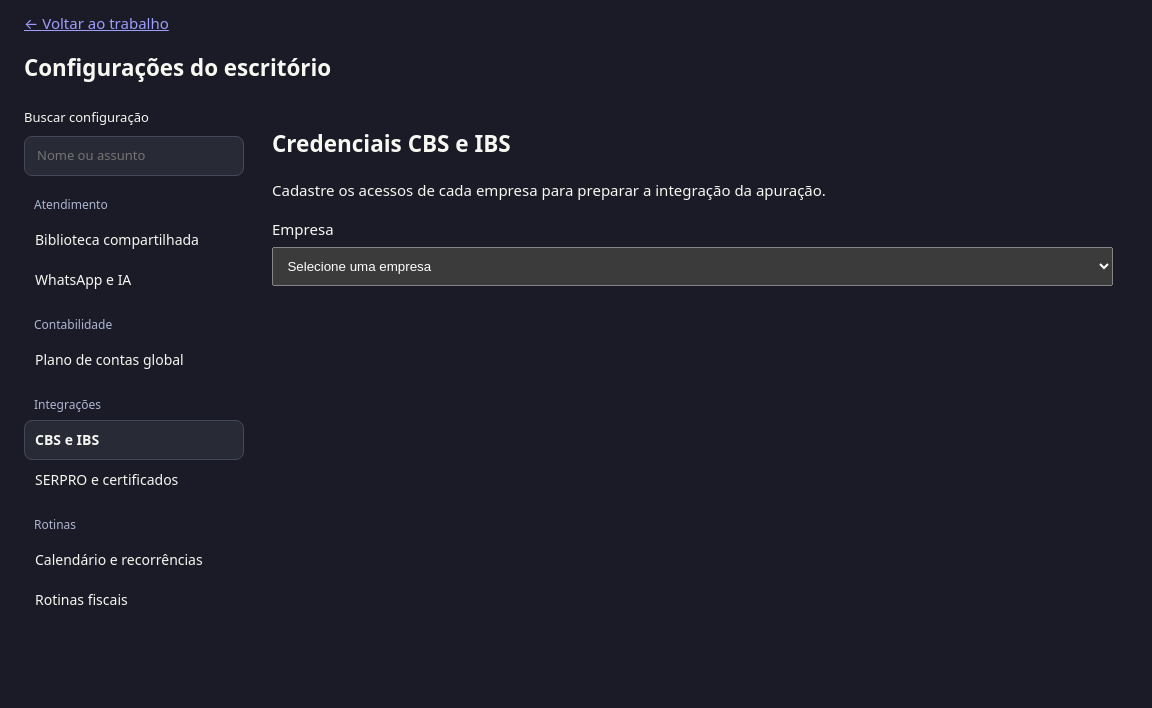
Test case: erro de listagem bloqueia edição e permite tentar novamente
Select "Prisma · 111" in the dropdown labelled "Empresa" at coordinates (692, 266), box [272,247,1113,286]
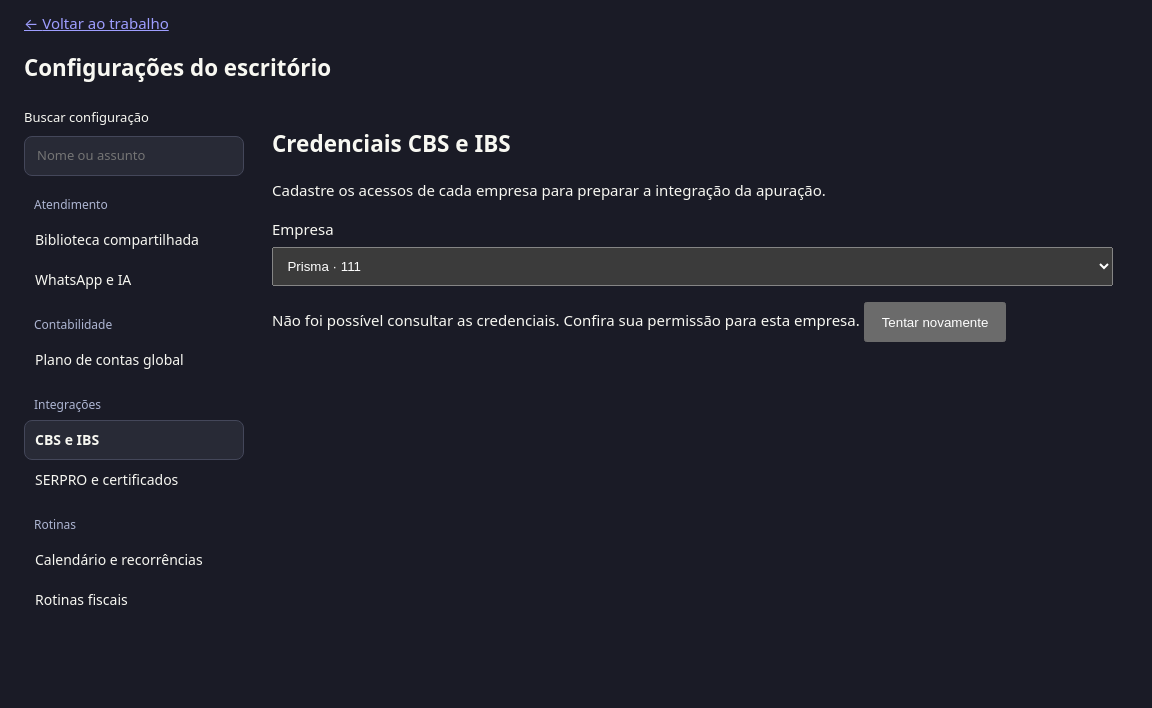
Expected: the field labelled "Client Secret" is not shown
Result: the message shows "Não foi possível consultar" at [272,311,864,331]
Click the button "Tentar novamente" at coordinates (935, 322), box [864,302,1006,342]
(page scrolled)
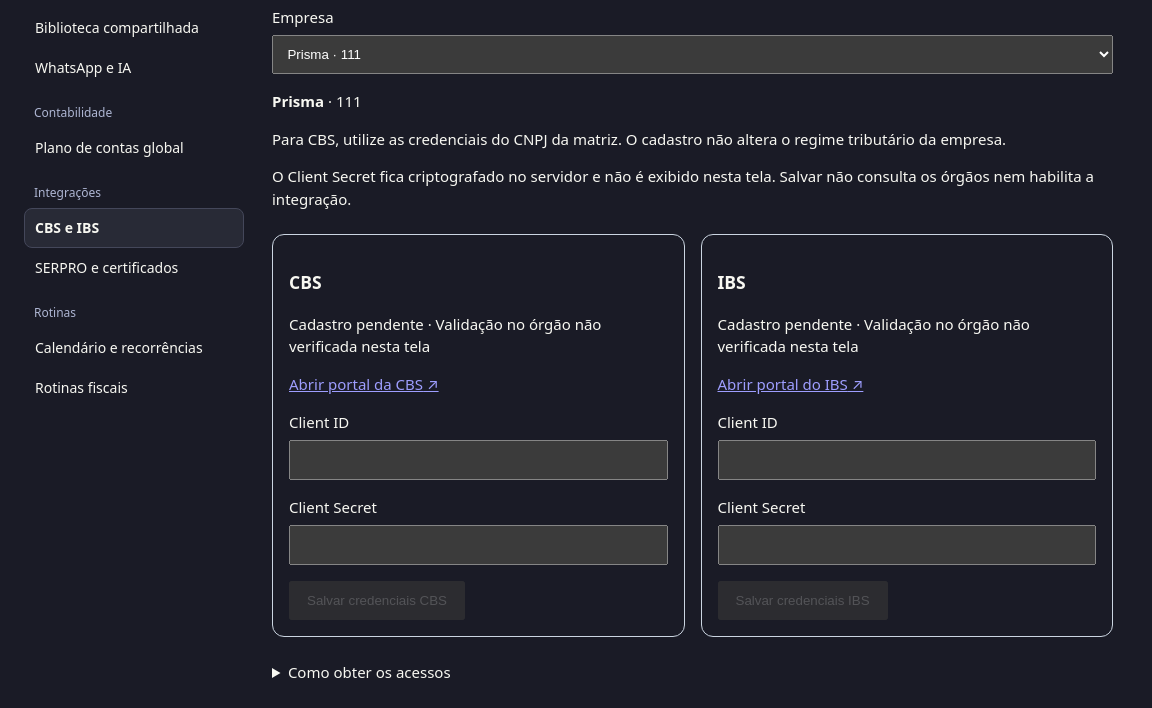
Result: the element named "Credenciais IBS" is shown at [700,234,1113,637]
